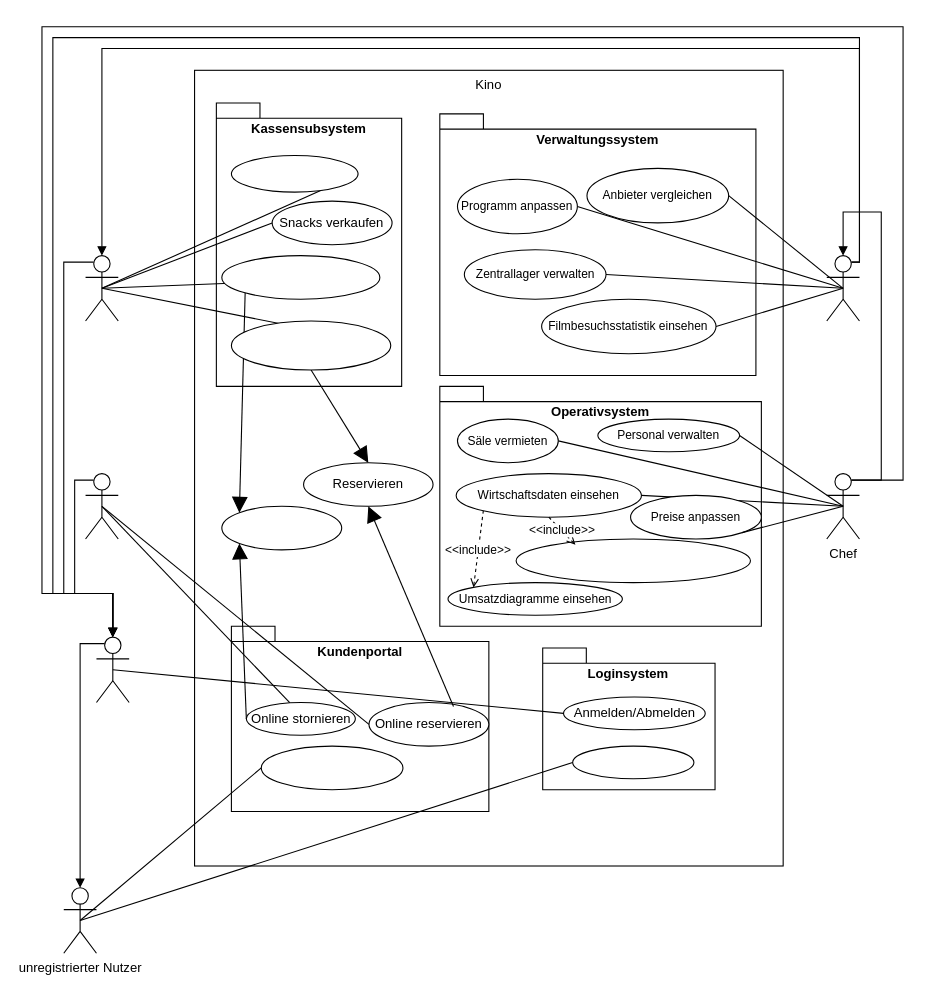
This 931x995 diagram has some shape labels left out. The shapes that lost their labels are listed below. From the top down, each one's centre as x and y in pixels, then its label:
the point at 294,173: Karten verkaufen
the point at 101,288: Mitarbeiter
the point at 300,277: vor Ort/ telefonisch stornieren
the point at 842,288: Autorisierter Mitarbeiter
the point at 310,345: vor Ort/ telefonisch reservieren
the point at 101,506: Kunde
the point at 281,527: Stornieren
the point at 632,560: Tageseinnahmen Dashboard einsehen
the point at 112,669: Nutzer
the point at 331,767: Programm anzeigen
the point at 633,762: Registrieren
